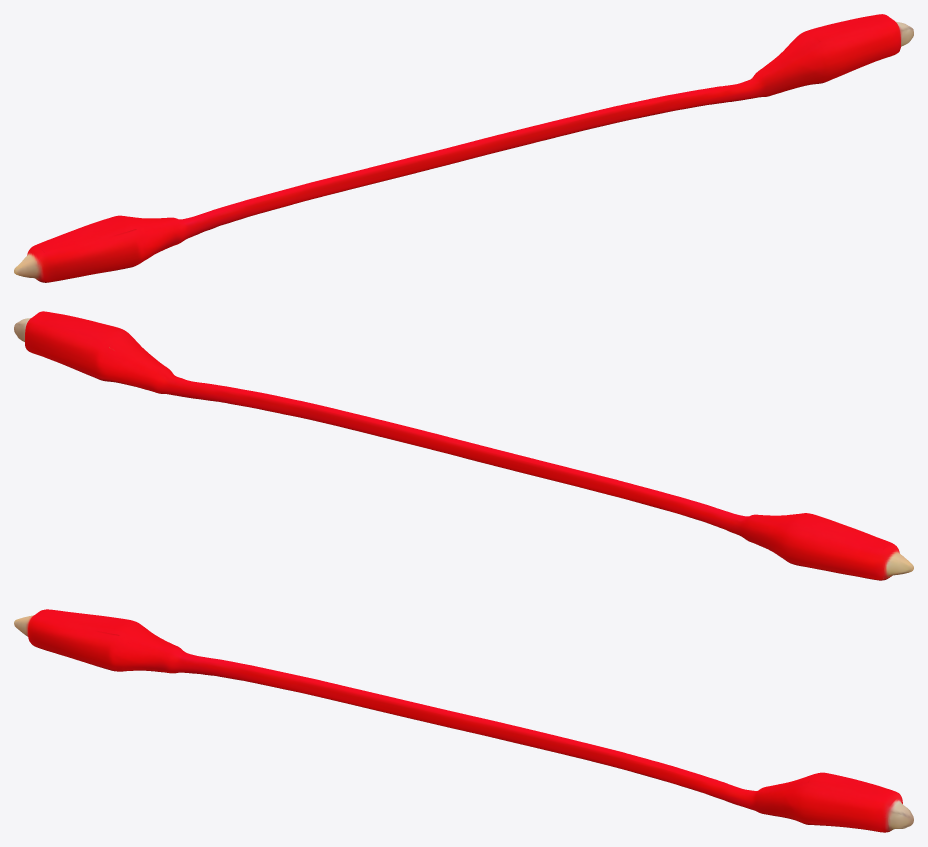
File: base_basic_shaded.fbx
3 views of the same model, one above another, from view 1: azimuth 30°, elevation 25°; view 2: azimuth 150°, elevation 25°; view 3: azimuth 330°, elevation 25° (orthographic).
Parts seen in each view (by area): view 1: model; view 2: model; view 3: model.
Part boxes in pixels (<box>): model: <box>14,14,913,282</box>; model: <box>14,311,913,580</box>; model: <box>14,609,913,832</box>.
Size of the model in its own units: 190 by 12.25 by 11.2.
